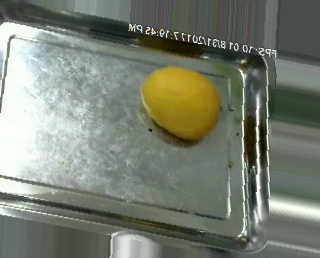Mango: (143, 67, 222, 141)
